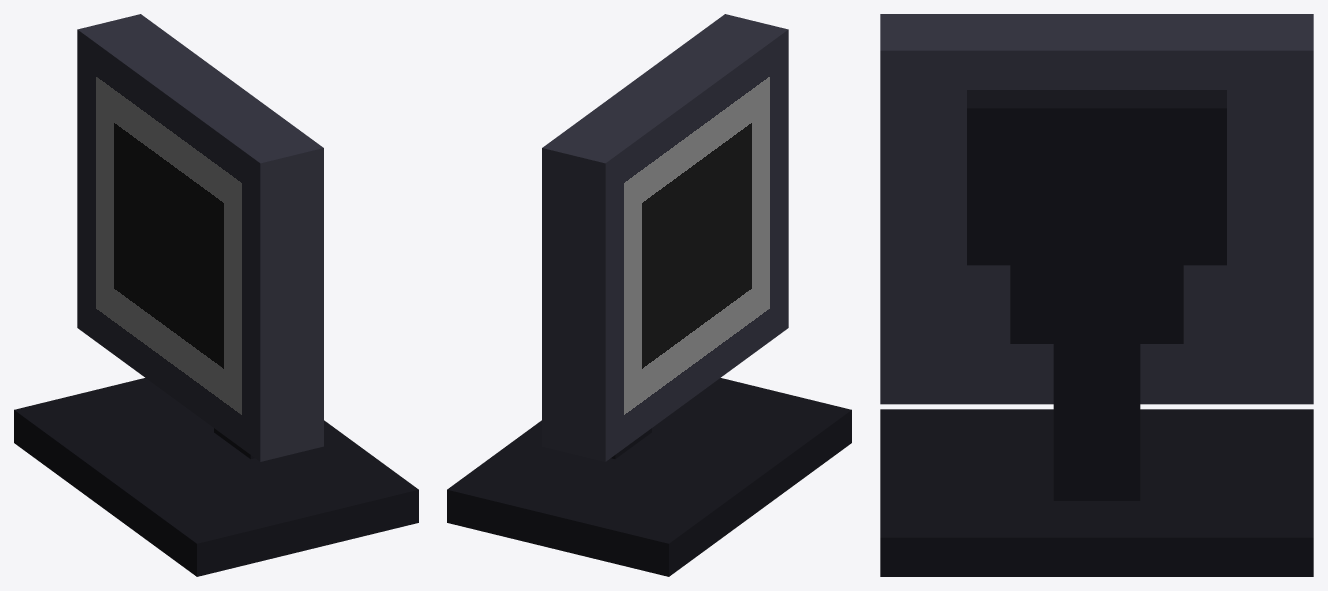
File: speaker2.fbx
3 views of the same model, side by side, from view 1: azimuth 30°, elevation 25°; view 2: azimuth 150°, elevation 25°; view 3: azimuth 270°, elevation 25° (orthographic). The views are drawn at different scales.
Visible parts, largest first — view 1: speaker2; view 2: speaker2; view 3: speaker2.
Boxes of the visible parts, x1=… form: speaker2: x1=14, y1=14, x2=418, y2=576; speaker2: x1=447, y1=14, x2=851, y2=576; speaker2: x1=880, y1=14, x2=1313, y2=576.
Bounding box in the file's own units: 7 × 12 × 10.
